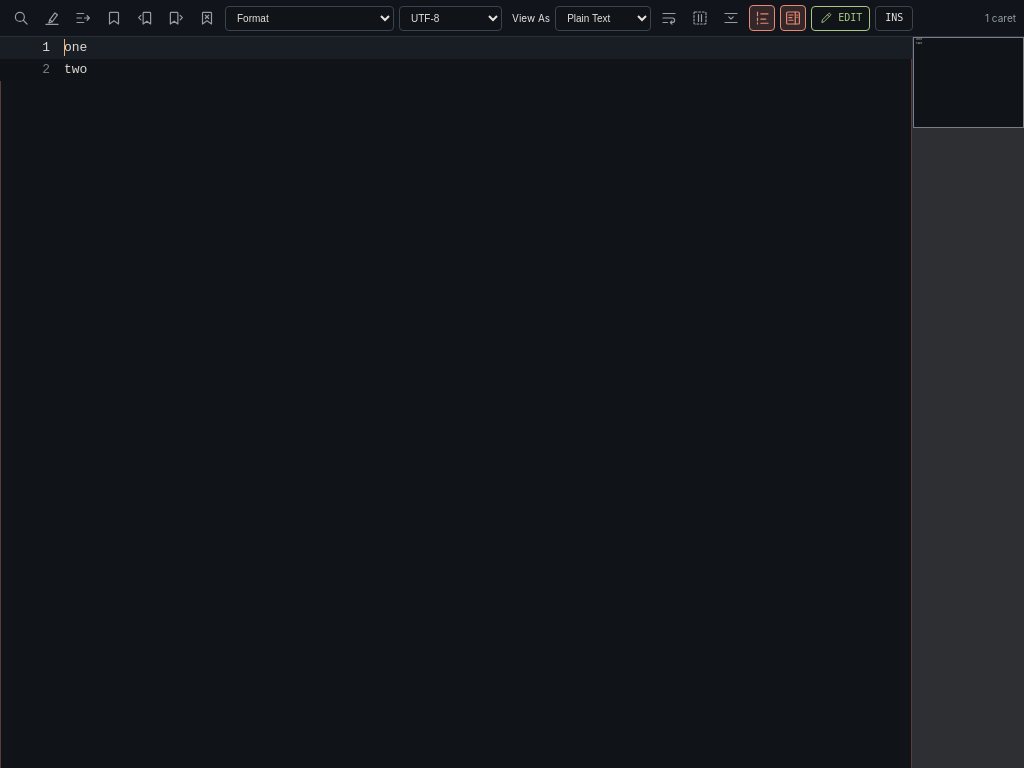
Scenario: shows a compact document map for a short file and exposes its visibility toggle
Click the button named "Toggle document map" at [793, 18], box [780,5,806,31]
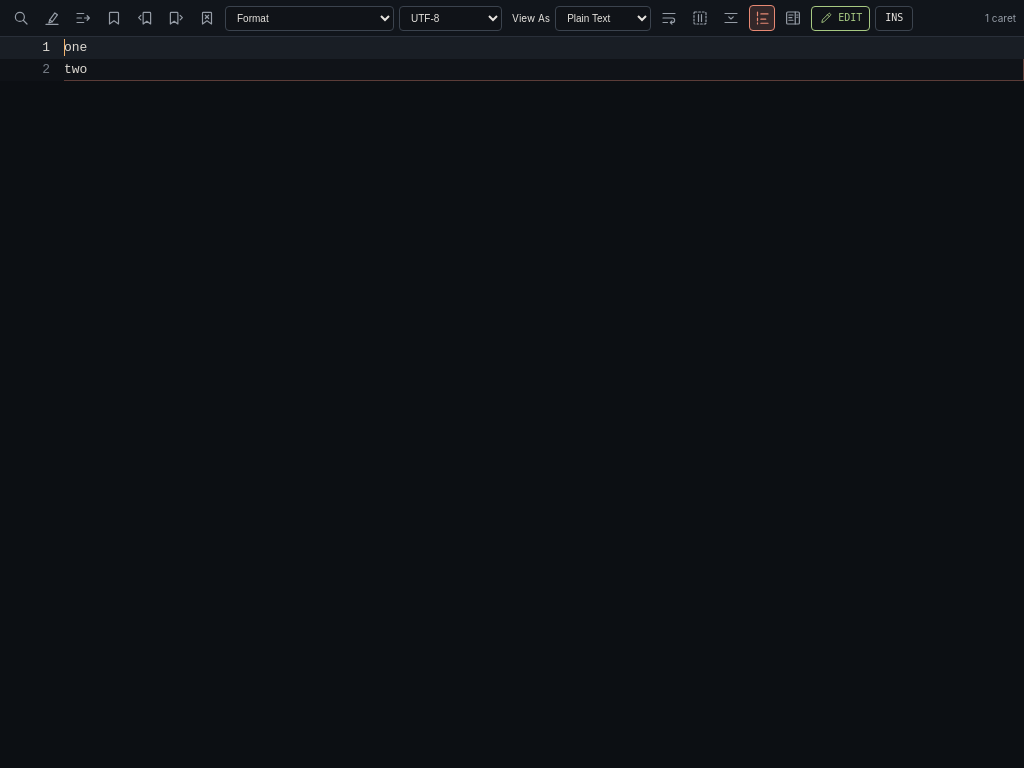
expect the button named "Toggle document map" is not pressed: met
expect the button named "Toggle document map" has attribute title="Show document map": met
Click the button named "Toggle document map" at [793, 18], box [780,5,806,31]
(page scrolled)
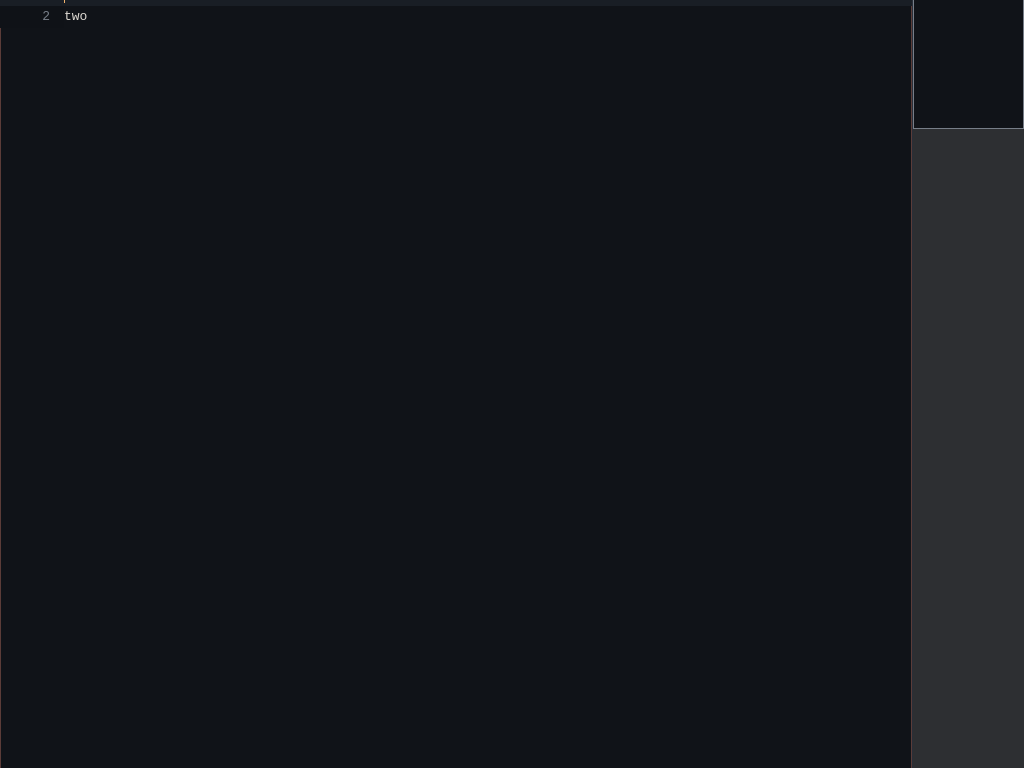
expect the button named "Document map" is shown: met, box [912,0,1023,767]
